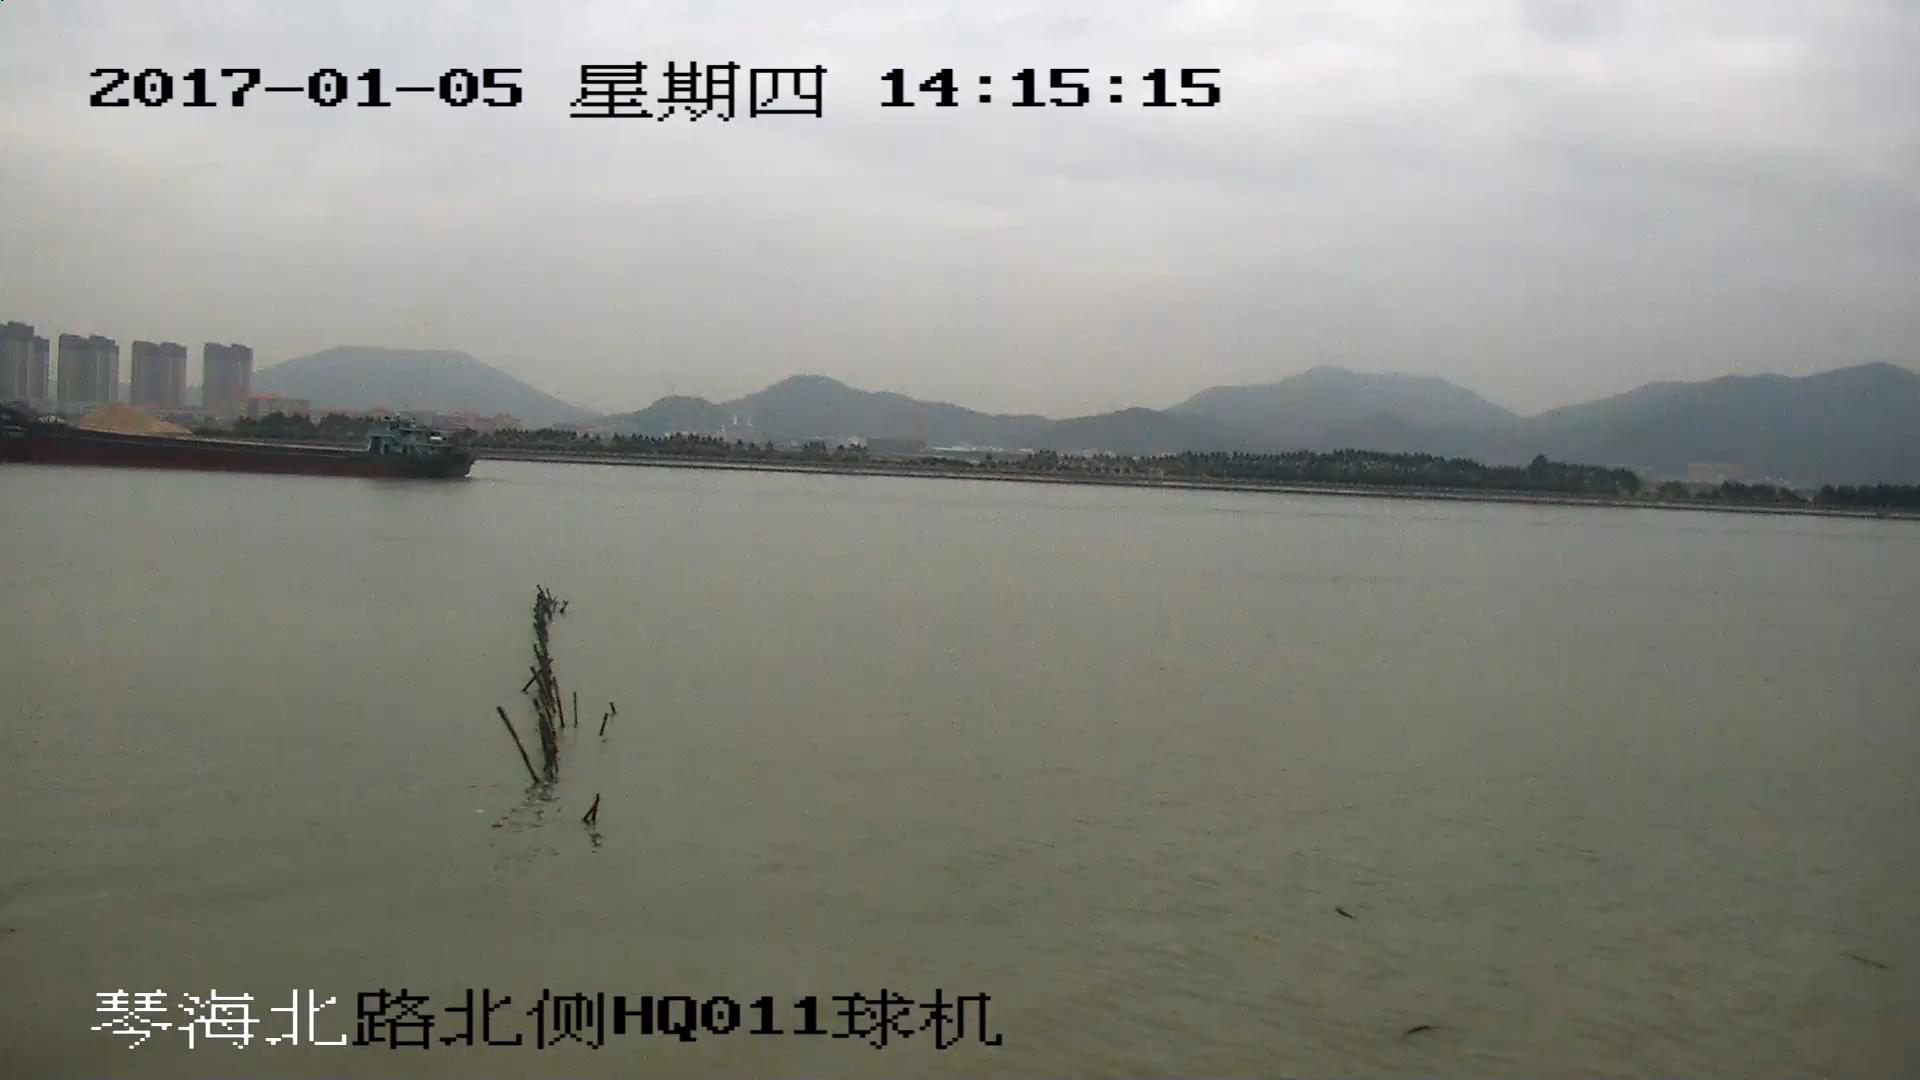Ship: (3, 418, 473, 480)
